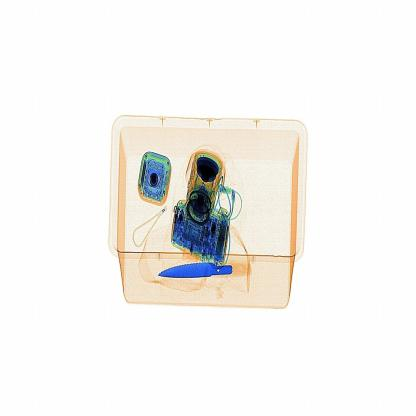wrench: (154, 257, 262, 295)
